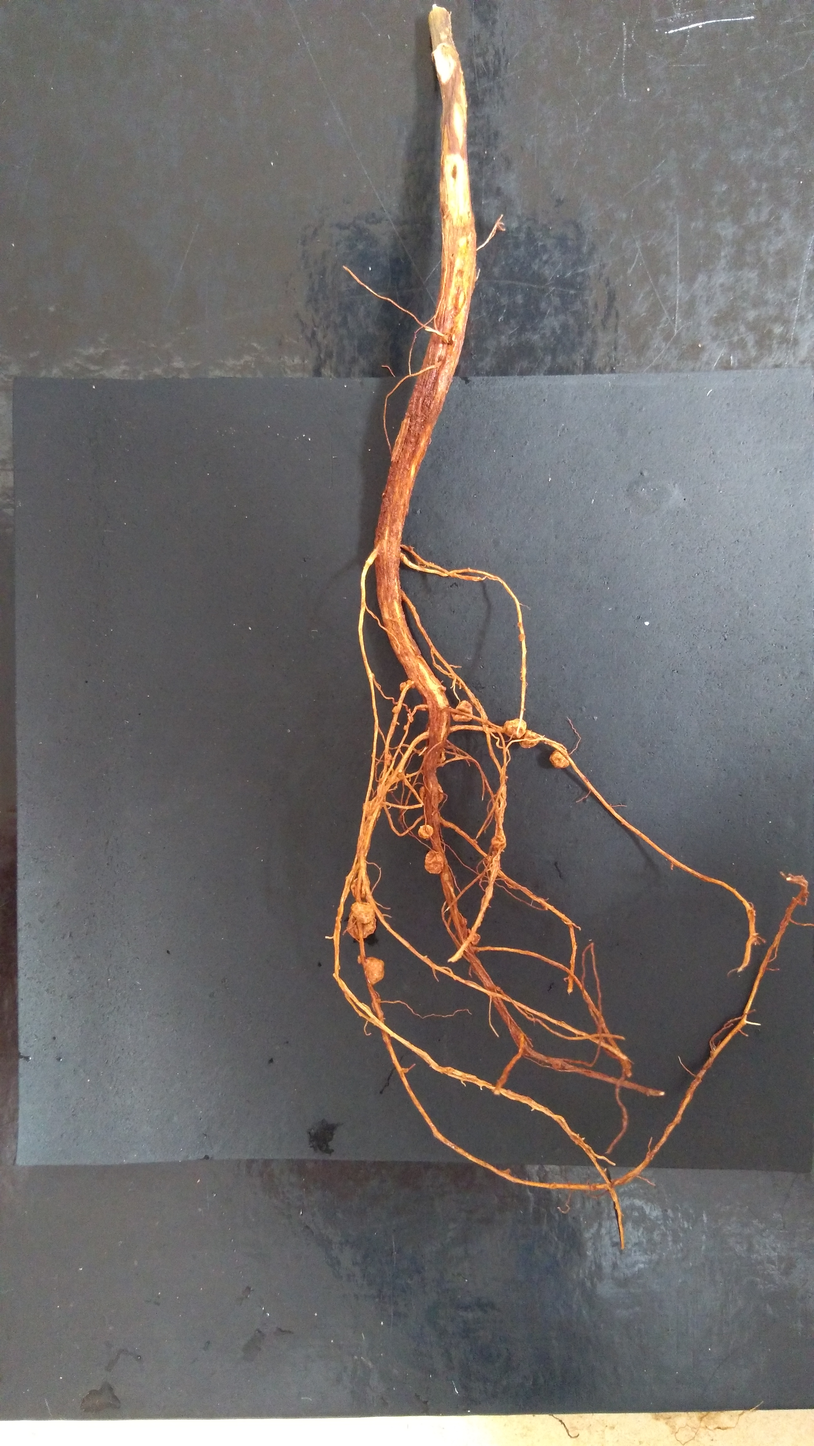nodule: (346, 901, 377, 938), (364, 957, 385, 985), (503, 718, 527, 739), (419, 783, 443, 804), (424, 849, 444, 874), (451, 700, 473, 722), (350, 876, 370, 898), (549, 749, 569, 769), (519, 730, 541, 748), (362, 800, 380, 818), (491, 835, 506, 851), (466, 928, 480, 945), (418, 824, 433, 839), (494, 807, 505, 823), (437, 747, 446, 764), (386, 753, 393, 766), (405, 680, 415, 689), (407, 713, 414, 723), (391, 705, 399, 713), (461, 917, 468, 926), (518, 633, 525, 641), (397, 773, 404, 781), (486, 855, 493, 863), (400, 682, 406, 691), (357, 955, 362, 964), (440, 686, 446, 691), (403, 725, 408, 730), (397, 769, 402, 773)
